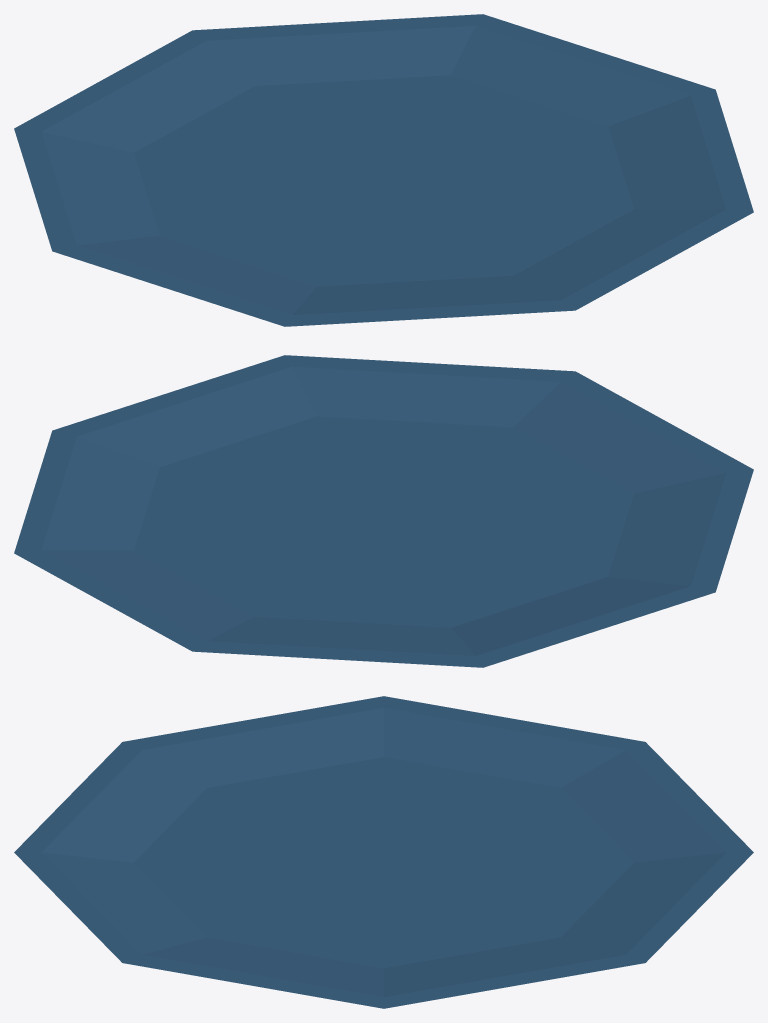
Rendered from plate.fbx.
The picture shows the model from 3 angles, top to bottom: view 1: azimuth 30°, elevation 25°; view 2: azimuth 150°, elevation 25°; view 3: azimuth 270°, elevation 25°; orthographic projection. The views are drawn at different scales.
Visible parts, largest first — view 1: Plate; view 2: Plate; view 3: Plate.
Part boxes in pixels (<box>): Plate: <box>14,14,753,326</box>; Plate: <box>14,355,753,667</box>; Plate: <box>14,696,753,1008</box>.
Size of the model in its own units: 33.03 by 1.12 by 33.03.
1 material, 1 textured.
